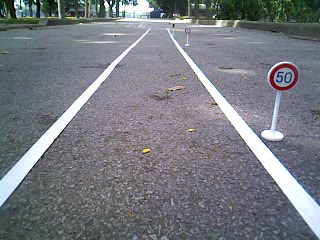limit 50: (265, 60, 301, 93)
